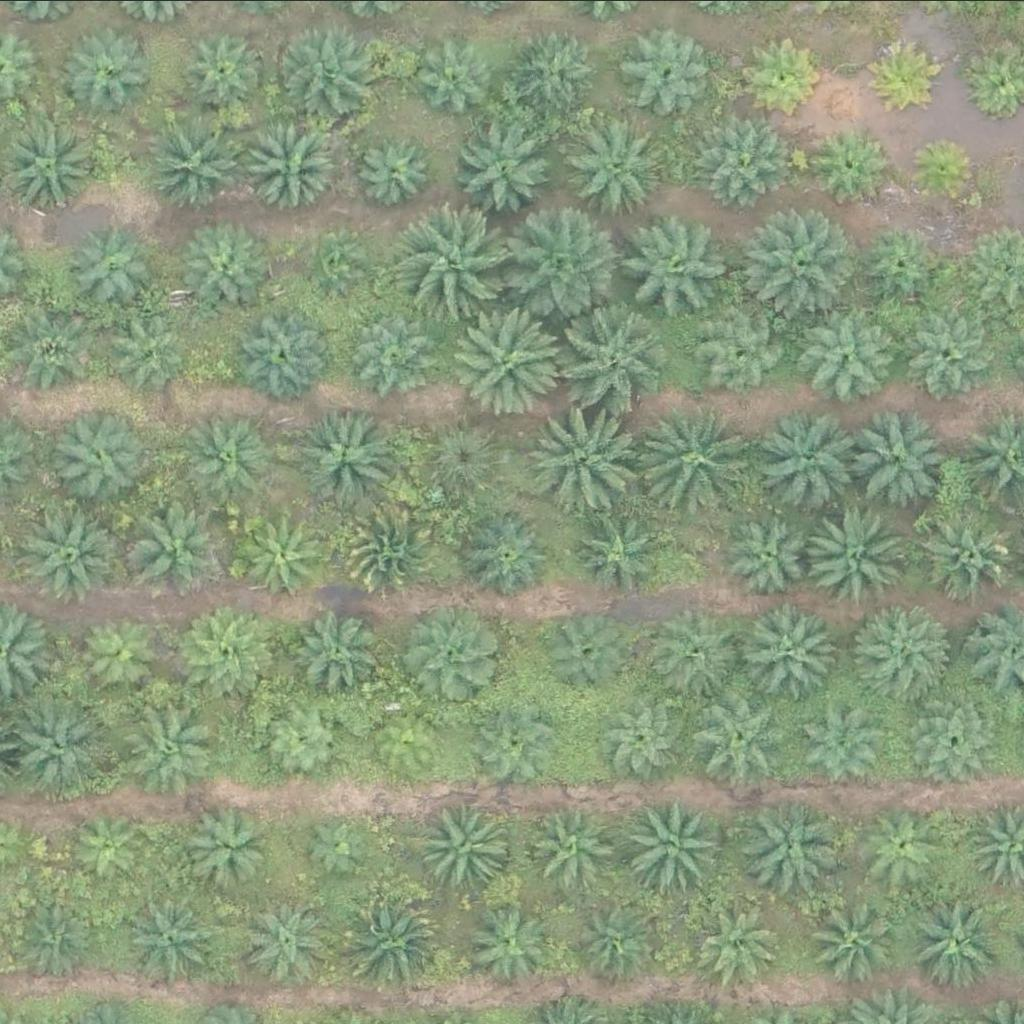Kelapa_Sawit: (532, 403, 646, 516), (509, 208, 622, 321), (619, 207, 732, 320), (742, 206, 855, 319), (555, 297, 668, 410), (451, 301, 564, 414), (646, 407, 759, 520), (399, 202, 513, 314), (275, 27, 376, 127), (563, 118, 664, 218), (235, 300, 336, 400), (292, 408, 393, 508), (762, 411, 863, 511), (845, 406, 946, 506), (810, 504, 911, 604), (847, 600, 948, 700), (738, 795, 839, 895), (904, 893, 1005, 993), (342, 888, 443, 988), (12, 691, 113, 791), (126, 695, 227, 795), (173, 598, 274, 698), (121, 499, 222, 599), (44, 406, 145, 506), (177, 408, 278, 508), (3, 114, 104, 214), (143, 111, 244, 211), (242, 113, 342, 213), (458, 119, 558, 219), (404, 604, 504, 704), (339, 495, 439, 595), (693, 683, 793, 783), (412, 794, 512, 894), (621, 794, 721, 894), (806, 886, 906, 986), (23, 504, 123, 604), (857, 221, 945, 309), (408, 30, 496, 118), (425, 418, 513, 506), (541, 606, 629, 694), (571, 513, 659, 601), (813, 311, 901, 399), (905, 310, 993, 398), (356, 309, 444, 397), (241, 513, 329, 601), (464, 508, 552, 596), (721, 508, 809, 596), (603, 692, 691, 780), (806, 700, 894, 788), (910, 696, 998, 784), (468, 902, 556, 990), (692, 897, 780, 985), (125, 895, 213, 983), (13, 305, 101, 393), (72, 224, 160, 312), (262, 695, 350, 783), (513, 28, 601, 115), (693, 118, 781, 205), (624, 31, 712, 118), (702, 306, 790, 393), (927, 514, 1015, 601), (292, 614, 380, 701), (650, 608, 738, 695), (474, 700, 562, 787), (751, 605, 839, 692), (522, 798, 610, 885), (860, 801, 948, 888), (571, 892, 659, 979), (239, 892, 327, 979), (9, 902, 97, 989), (186, 803, 274, 890), (375, 704, 463, 791), (72, 606, 160, 693), (108, 308, 196, 395), (188, 218, 276, 305), (180, 25, 268, 112), (62, 25, 150, 112), (358, 133, 434, 208), (867, 34, 943, 109), (67, 808, 143, 883), (299, 807, 374, 882), (809, 124, 884, 199), (906, 132, 981, 207), (745, 34, 820, 109), (302, 235, 365, 297)
